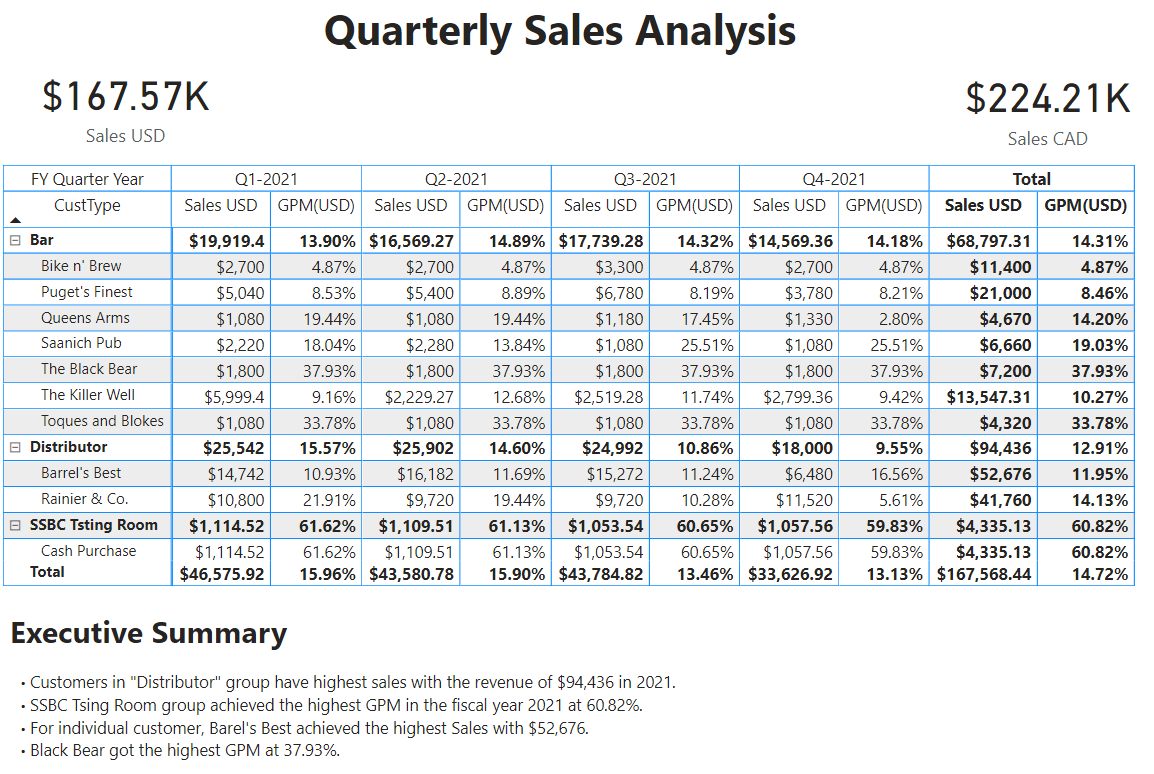

The dashboard page shown, as its layout file describes it:
{"tool":"powerbi","page":{"name":"Sales and GPM","canvas":[1280,720],"ordinal":0},"visuals":[{"type":"pivotTable","fields":{"Columns":["Date.FY Quarter Year"],"Rows":["Customer List.CustType","Customer List.Customer"],"Values":["Monthly Sales Logs.Sales USD","Monthly Sales Logs.GPM(USD)"]},"box":[0,146.4,1053.6,383.6],"z":0},{"type":"card","fields":{"Values":["Monthly Sales Logs.Sales CAD"]},"box":[822.7,49.1,218.2,100.9],"z":1000},{"type":"card","fields":{"Values":["Monthly Sales Logs.Sales USD"]},"box":[0,49.1,228.2,97.3],"z":2000},{"type":"textbox","box":[6.4,541.8,1047.3,156.4],"z":3000},{"type":"textbox","box":[262.7,0,473.6,98.2],"z":4000}]}

Visuals, with their boxes on the page's 1280x720 design canvas (x1, y1, x2, y2). These are canvas units, not pixel positions in the 1154x774 screenshot, which may show the page scaled, cropped or inside an application window:
pivotTable - Date.FY Quarter Year x Customer List.CustType: 0 146 1054 530
card - Monthly Sales Logs.Sales CAD: 823 49 1041 150
card - Monthly Sales Logs.Sales USD: 0 49 228 146
textbox: 6 542 1054 698
textbox: 263 0 736 98
